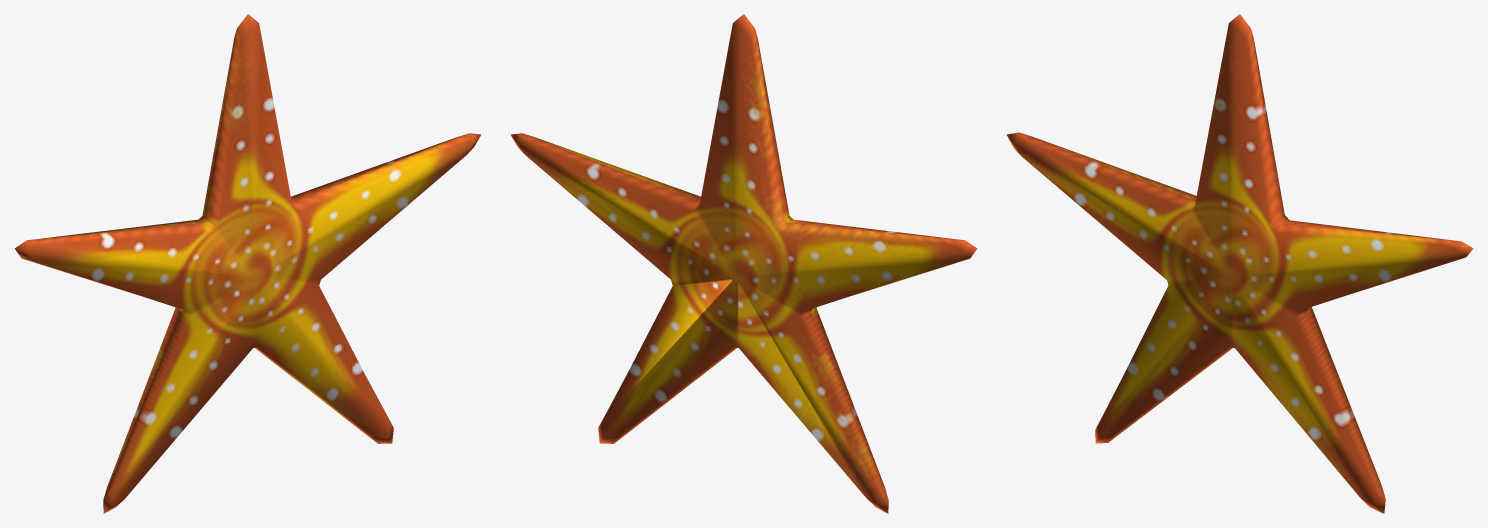
File: StellaMarina.FBX
3 renders of one model, left to right at view 1: azimuth 30°, elevation 25°; view 2: azimuth 150°, elevation 25°; view 3: azimuth 330°, elevation 25°, orthographic.
Visible parts, largest first — view 1: stella_marina; view 2: stella_marina; view 3: stella_marina.
Boxes of the visible parts, x1=… form: stella_marina: x1=14, y1=14, x2=480, y2=513; stella_marina: x1=511, y1=14, x2=977, y2=513; stella_marina: x1=1007, y1=14, x2=1473, y2=513.
Bounding box in the file's own units: 115 × 109 × 7.02.
